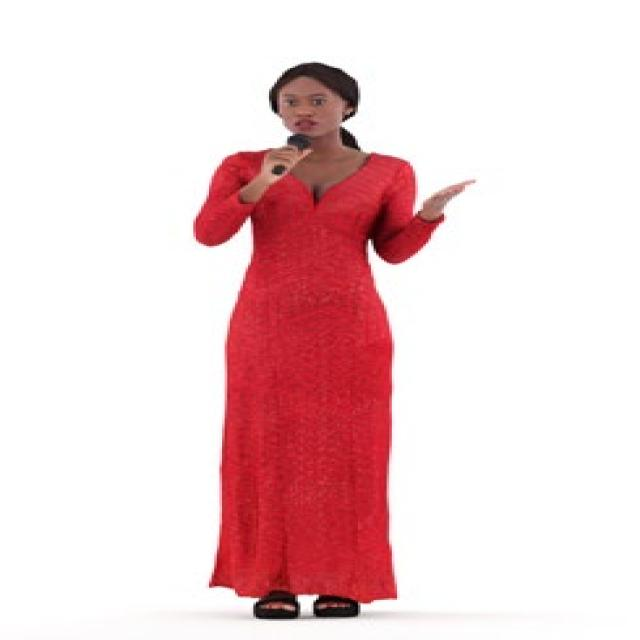standing: (190, 64, 487, 622)
